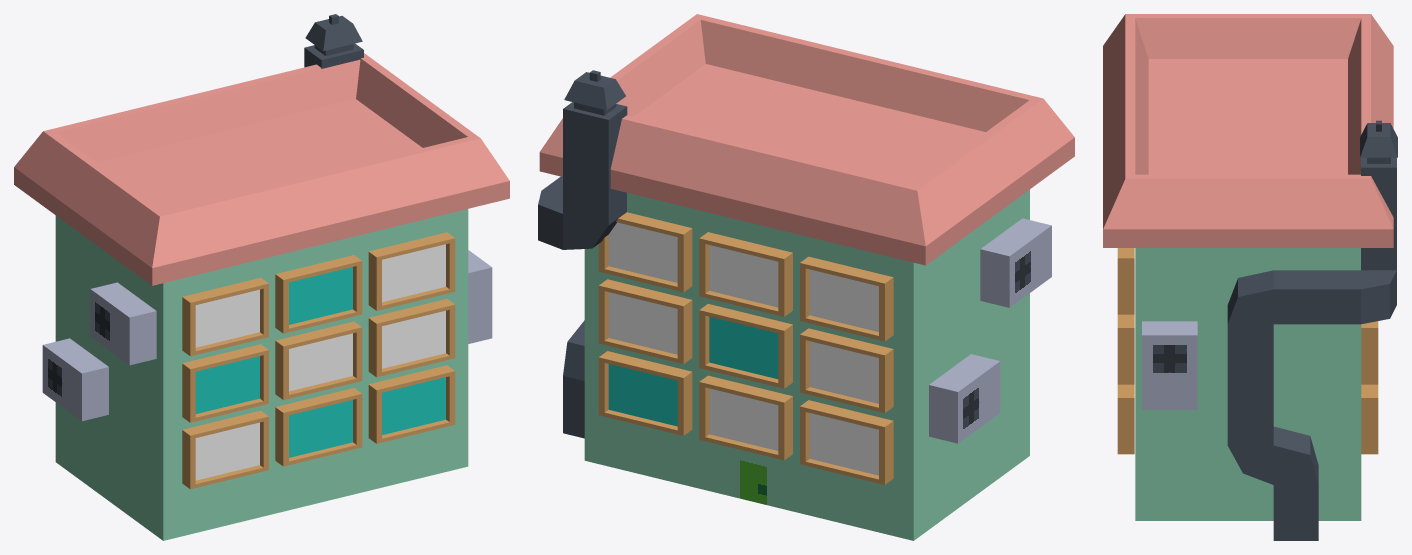
The model's file is building3.gltf.
The picture shows the model from 3 angles, left to right: view 1: azimuth 30°, elevation 25°; view 2: azimuth 150°, elevation 25°; view 3: azimuth 270°, elevation 25°; orthographic projection. The views are drawn at different scales.
Visible parts, largest first — view 1: cuboid (×14); view 2: cuboid (×13); view 3: cuboid (×8).
Part boxes in pixels (<box>): cuboid (×14): <box>14,14,509,540</box>; cuboid (×13): <box>538,14,1074,540</box>; cuboid (×8): <box>1103,14,1397,540</box>.
Bounding box in the file's own units: 2.75 × 2.61 × 1.79.
2 materials, 2 textured.
